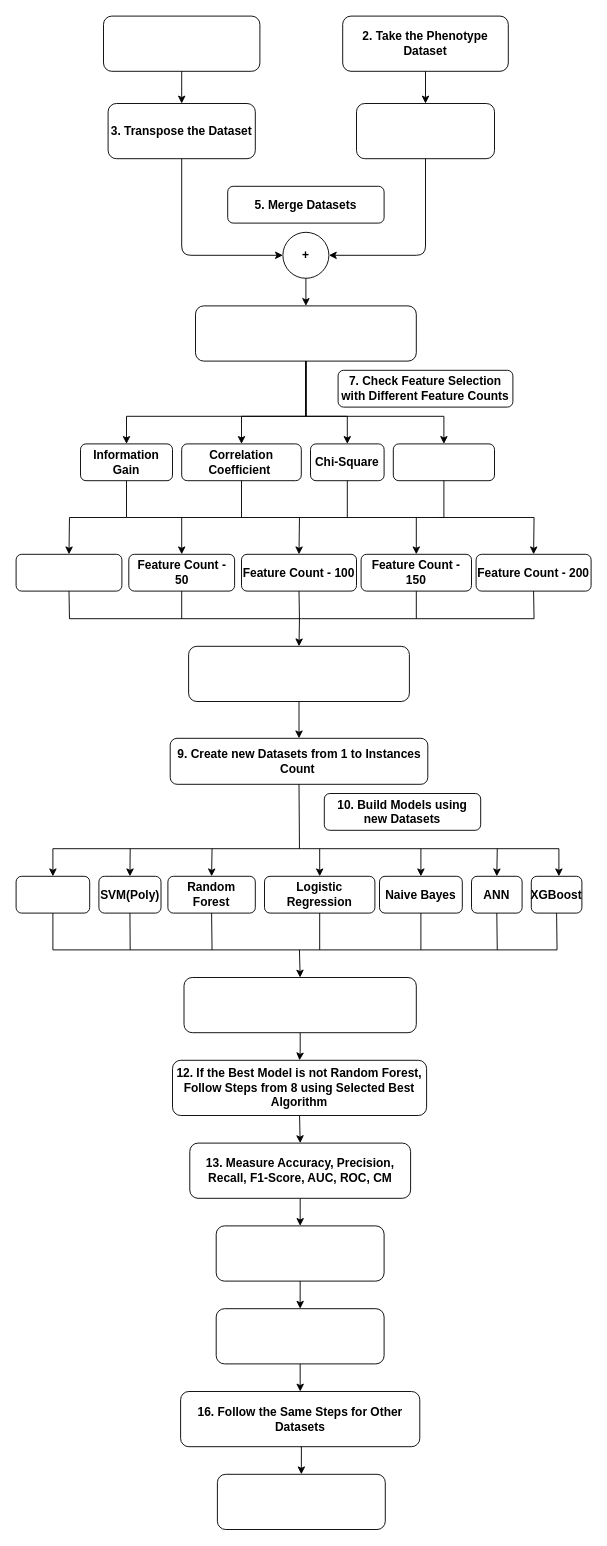
Image size: 607x1546. Some labels were removed from this diagram. The centre of each missing label's shape, as x and y in pixels:
1. Take the Molecular Dataset: the point at 181,43
11. Select the Best Model and Feature Count: the point at 299,1005
14. Hyperparameter Tuning: the point at 299,1253
15. Result Interpretation: the point at 299,1336
17. Compare Results: the point at 300,1501
4. Select target Features: the point at 425,131
6. Convert Object types to Numeric types: the point at 305,333
8. Select the Best Feature Selection Method using Random Forest: the point at 298,673
Feature Count - 25: the point at 68,572
Feature Importance: the point at 443,462
SVM(Linear): the point at 52,894
